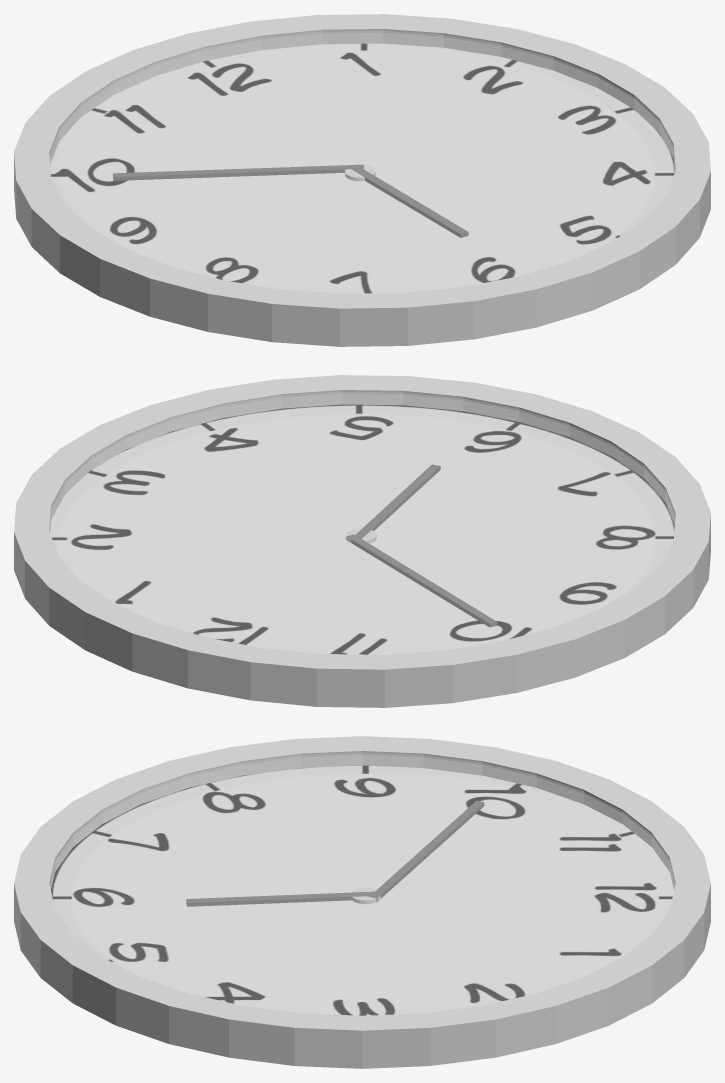
File: clock.glb
3 views of the same model, one above another, from view 1: azimuth 30°, elevation 25°; view 2: azimuth 150°, elevation 25°; view 3: azimuth 270°, elevation 25° (orthographic).
Visible parts, largest first — view 1: glass, clock base, rim, minuts clock arm, hour clock arm; view 2: glass, clock base, rim, minuts clock arm, hour clock arm; view 3: glass, clock base, rim, hour clock arm, minuts clock arm.
Part boxes in pixels (x1,y1,x2,y2): glass: (49, 31, 675, 293); clock base: (50, 43, 674, 293); rim: (14, 14, 710, 346); minuts clock arm: (113, 164, 363, 180); hour clock arm: (351, 168, 468, 237); glass: (49, 392, 675, 654); clock base: (50, 404, 674, 654); rim: (14, 375, 710, 707); minuts clock arm: (346, 534, 497, 627); hour clock arm: (355, 464, 440, 538); glass: (49, 753, 675, 1015); clock base: (51, 765, 673, 1015); rim: (14, 736, 710, 1068); hour clock arm: (186, 891, 373, 906); minuts clock arm: (369, 801, 484, 901).
Bounding box in the file's own units: 2.22 × 0.1345 × 2.22.
4 materials, 1 textured.
